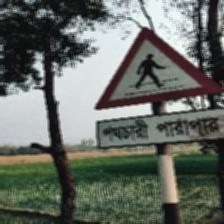Pedestrian-crossing: (94, 24, 224, 150)
